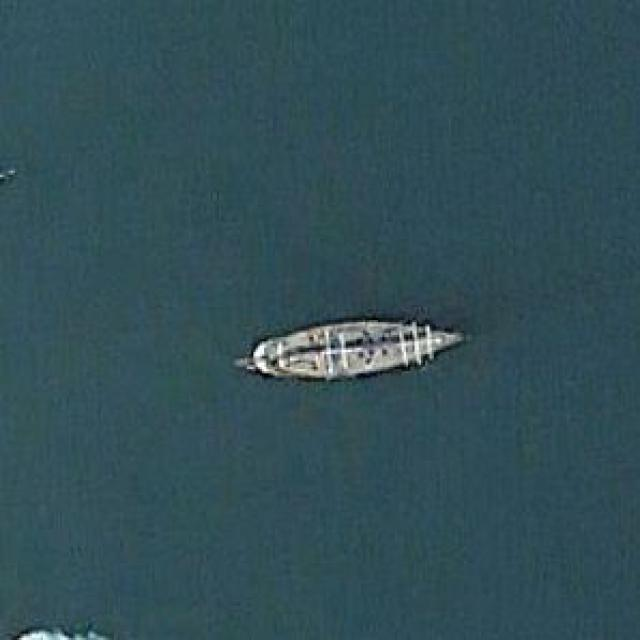ship: (240, 318, 472, 382)
